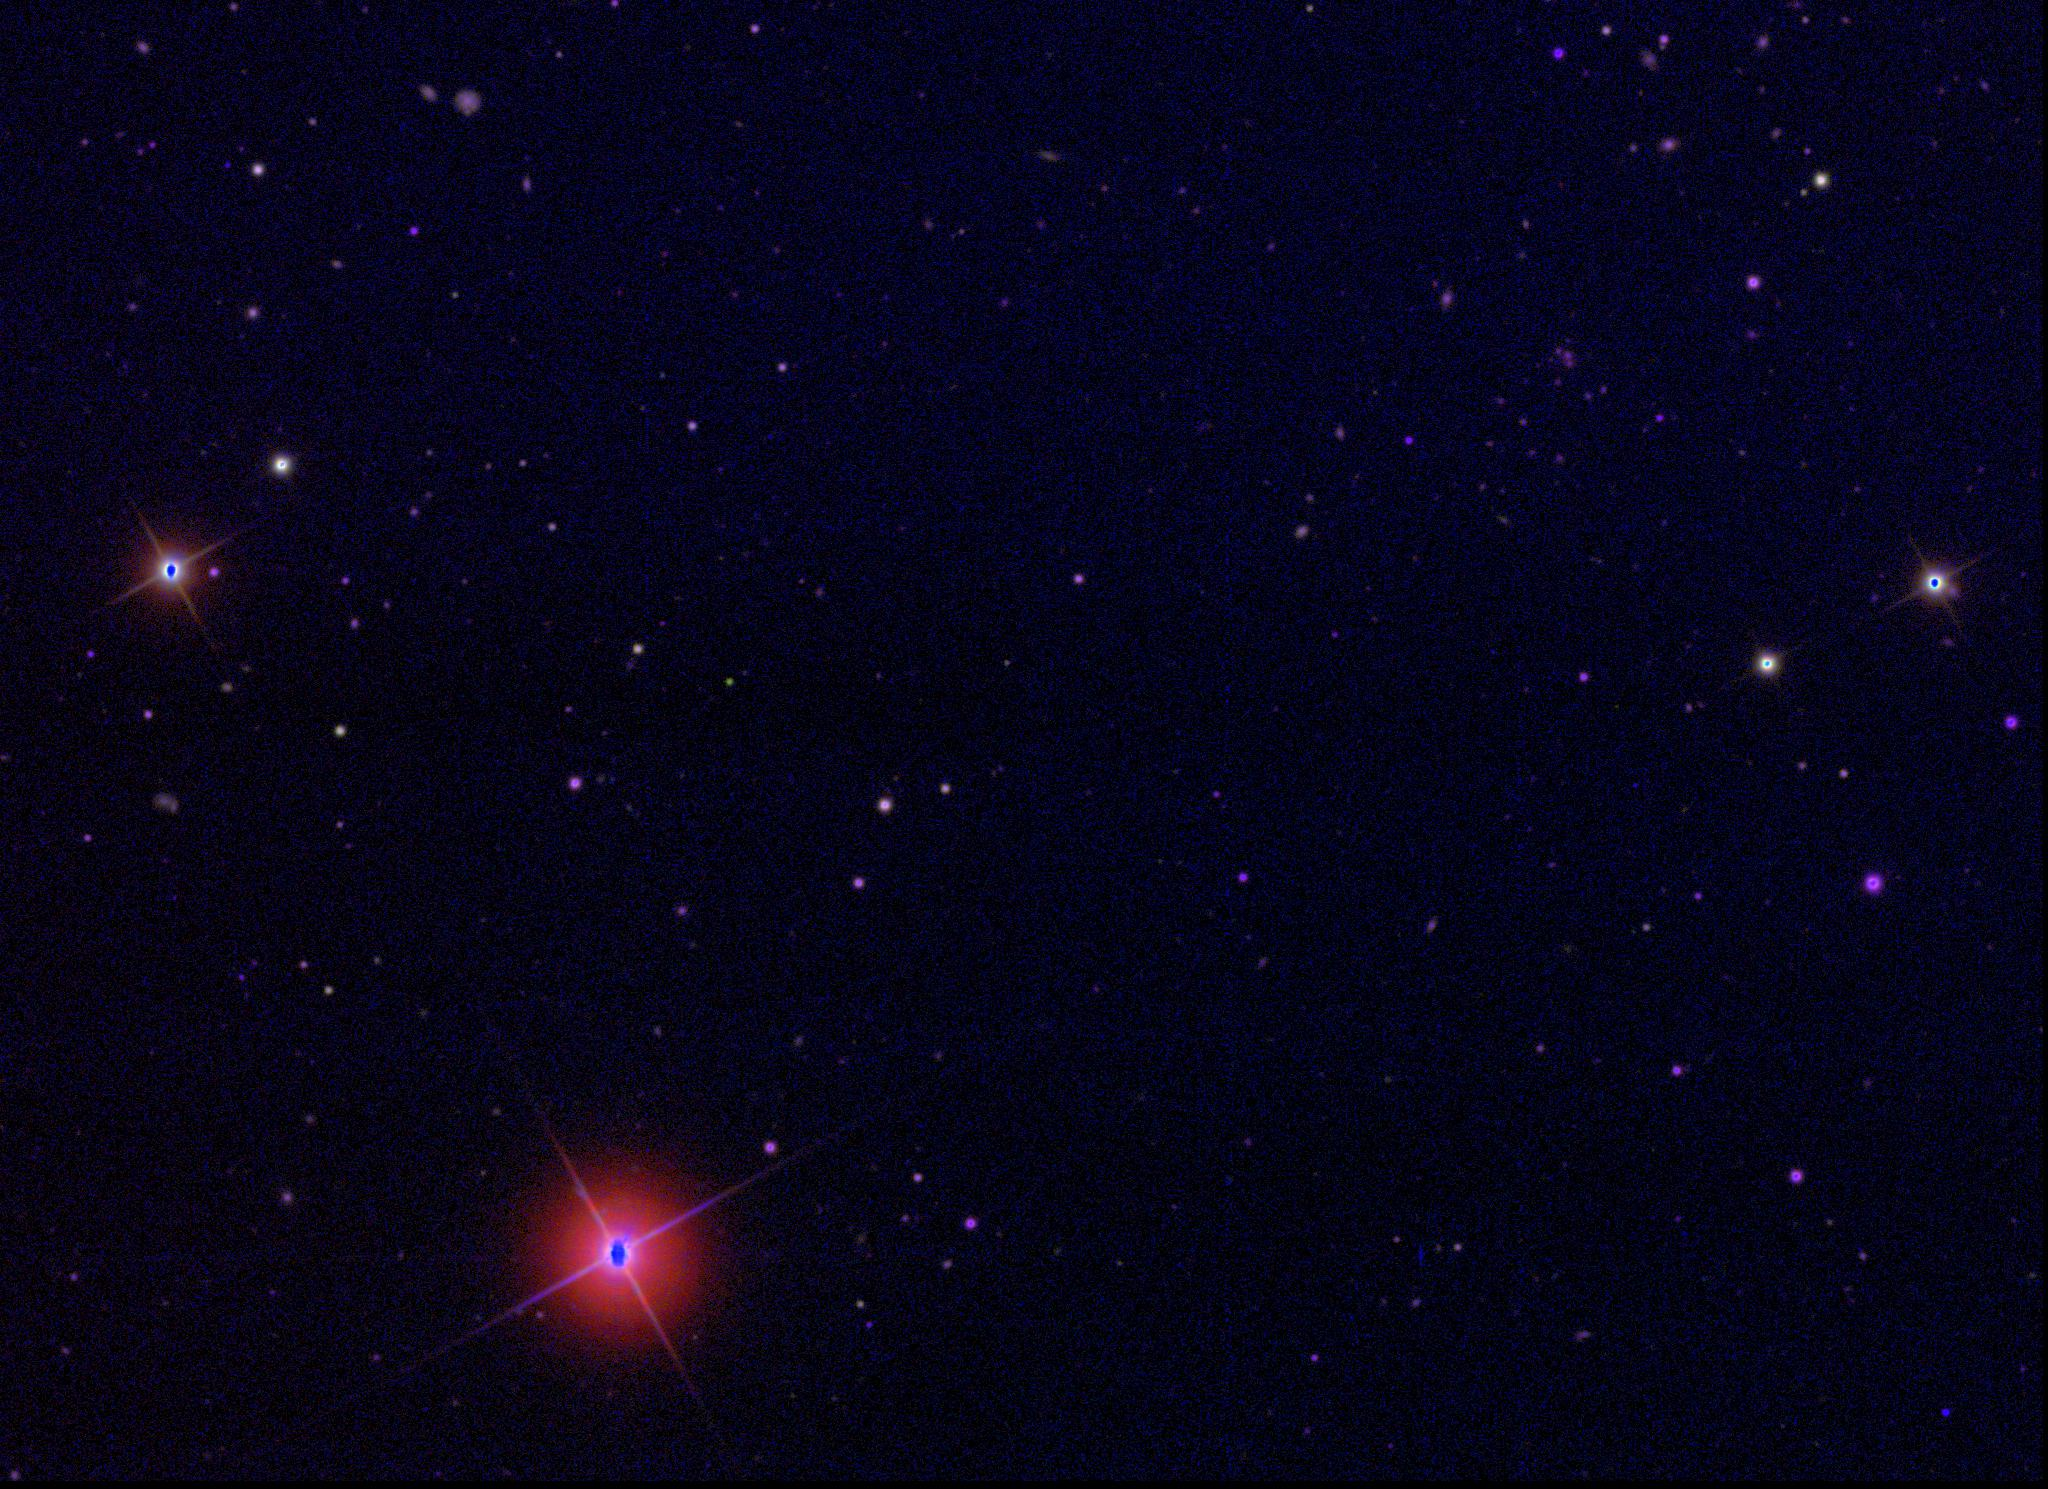L: (1938, 1405, 1953, 1417)
